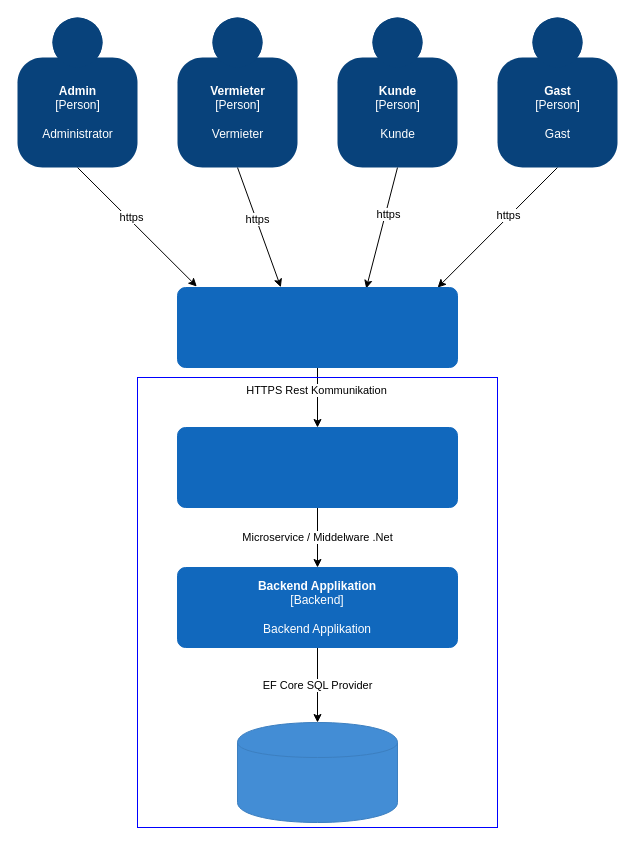
The diagram is 634 pixels wide and 845 high, and some of its shapes have lost their labels. The centre of each missing label's shape, as x and y in pixels:
CarRent Rest API [Rest API] CarRent Rest API: (x=317, y=467)
Database [Container: MSSQL] Database: (x=317, y=772)
IIS Windows [Webserver] IIS Windows: (x=317, y=327)
